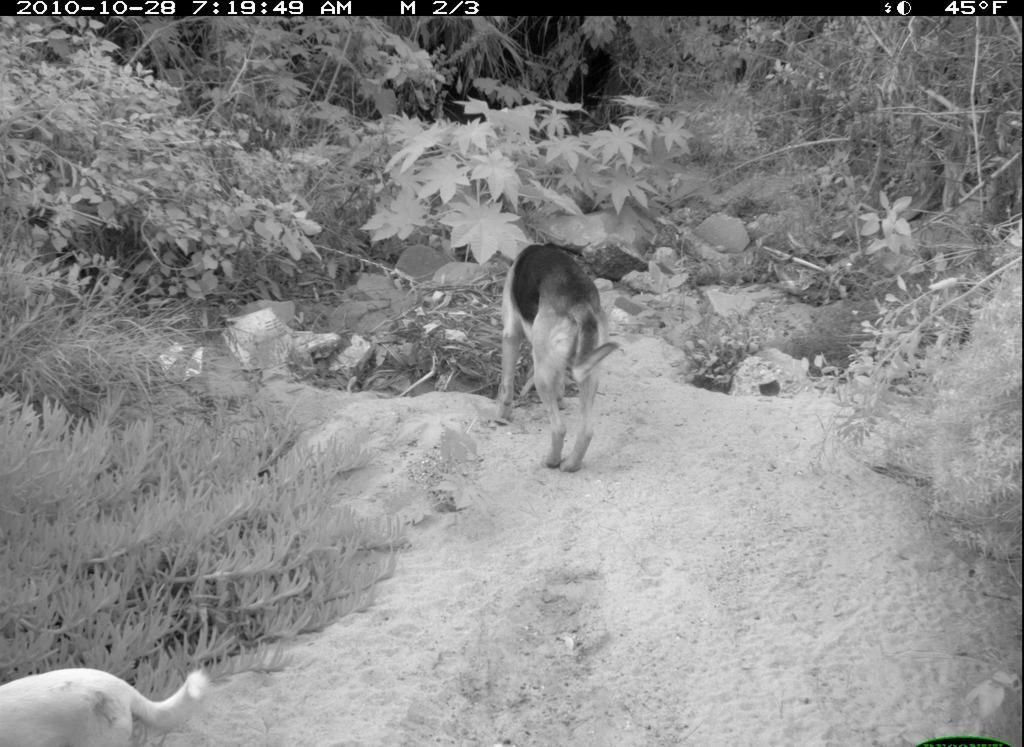dog: (483, 233, 629, 480), (4, 628, 219, 745)
